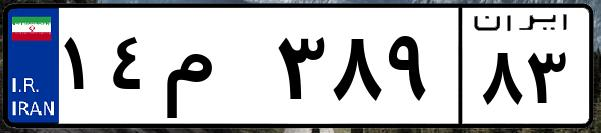1: (57, 26, 110, 100)
3: (270, 28, 330, 110), (525, 38, 570, 115)
4: (110, 28, 158, 98)
8: (330, 28, 385, 110), (475, 38, 525, 113)
9: (385, 28, 445, 110)
م: (158, 20, 270, 120)
